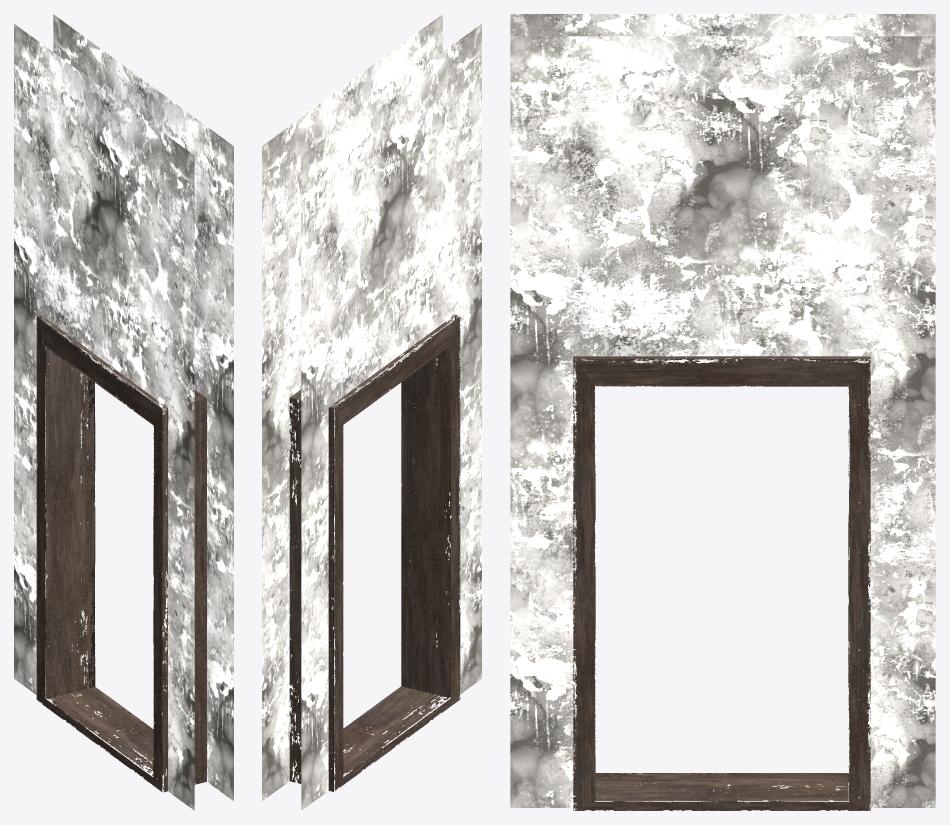
The model's file is SM_wall_A_int_doorway_2x2_01_01.fbx.
3 views of the same model, side by side, from view 1: azimuth 30°, elevation 25°; view 2: azimuth 150°, elevation 25°; view 3: azimuth 270°, elevation 25° (orthographic). The views are drawn at different scales.
Visible parts, largest first — view 1: SM_wall_A_int_doorway_2x2_01_01_LOD0; view 2: SM_wall_A_int_doorway_2x2_01_01_LOD0; view 3: SM_wall_A_int_doorway_2x2_01_01_LOD0.
Boxes of the visible parts, bbox=[...] form: SM_wall_A_int_doorway_2x2_01_01_LOD0: bbox=[14, 14, 233, 810]; SM_wall_A_int_doorway_2x2_01_01_LOD0: bbox=[262, 14, 481, 810]; SM_wall_A_int_doorway_2x2_01_01_LOD0: bbox=[510, 14, 935, 810].
Size of the model in its own units: 31.62 by 200 by 400.
2 materials, 2 textured.
